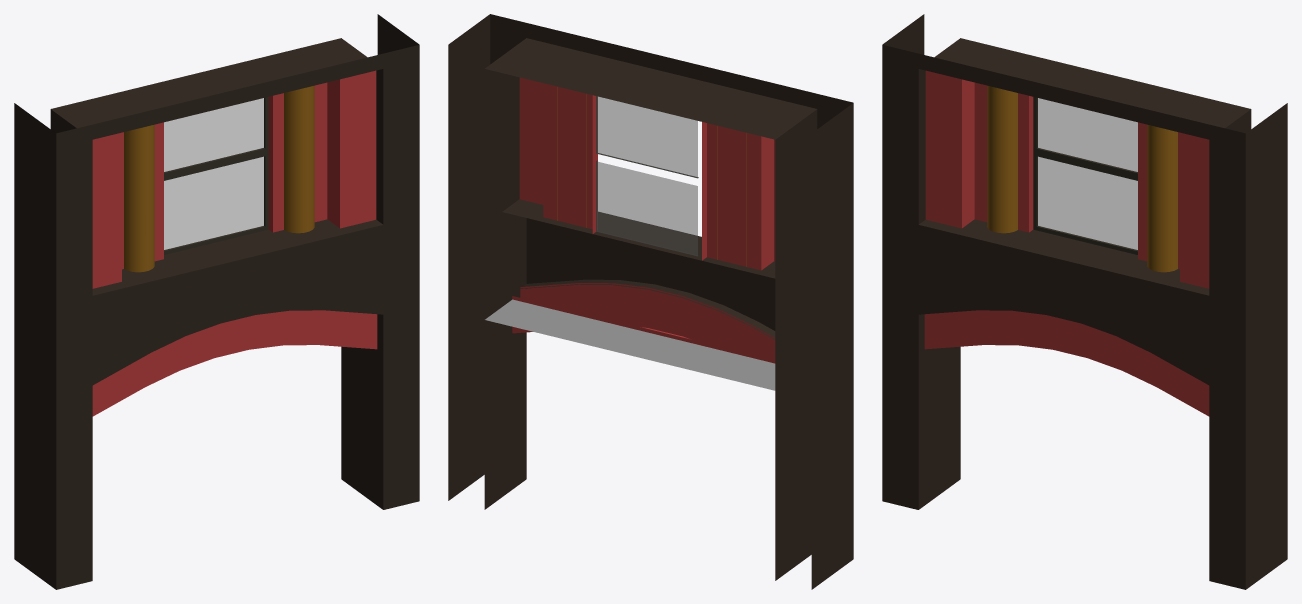
Rendered from Michirodo.FBX.
3 views of the same model, side by side, from view 1: azimuth 30°, elevation 25°; view 2: azimuth 150°, elevation 25°; view 3: azimuth 330°, elevation 25° (orthographic).
Parts seen in each view (by area): view 1: Michirodo; view 2: Michirodo; view 3: Michirodo.
Part boxes in pixels (x1=…): Michirodo: x1=14, y1=14, x2=419, y2=589; Michirodo: x1=448, y1=14, x2=853, y2=589; Michirodo: x1=882, y1=14, x2=1287, y2=589.
Bounding box in the file's own units: 500 × 600 × 100.
